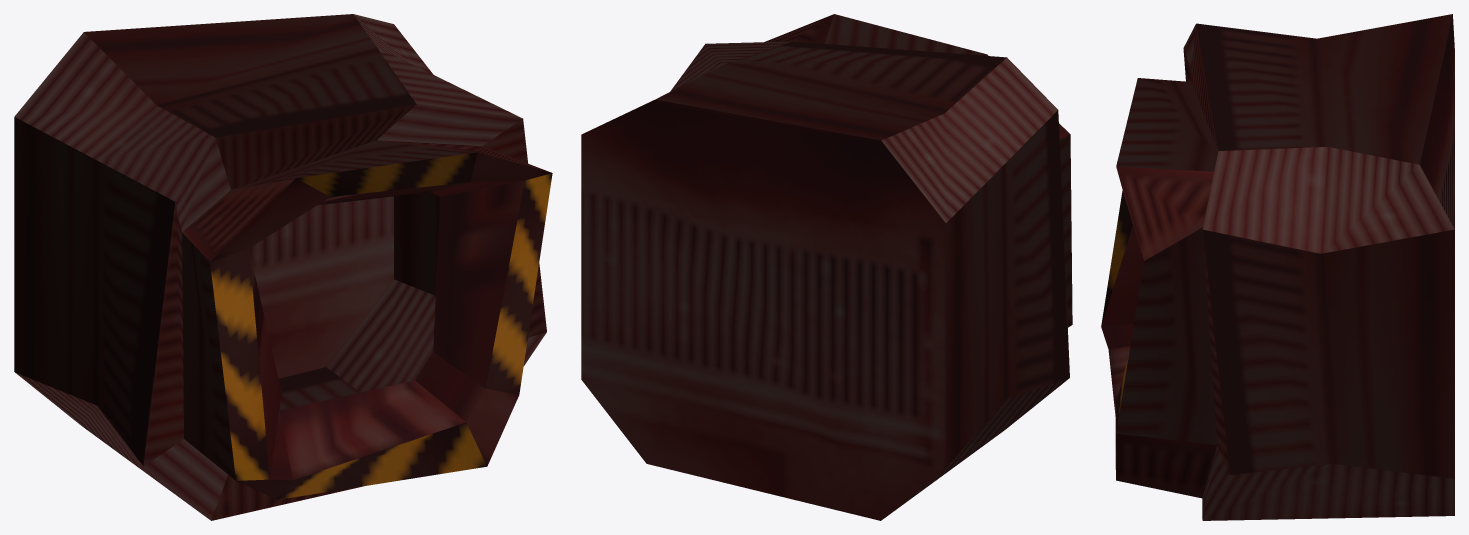
The model's file is FuseboxBroken.fbx.
3 renders of one model, left to right at view 1: azimuth 30°, elevation 25°; view 2: azimuth 150°, elevation 25°; view 3: azimuth 270°, elevation 25°, orthographic. The views are drawn at different scales.
Visible parts, largest first — view 1: FuseBox.001; view 2: FuseBox.001; view 3: FuseBox.001.
Part boxes in pixels (x1,y1,x2,y2): FuseBox.001: [14, 14, 552, 520]; FuseBox.001: [581, 14, 1072, 520]; FuseBox.001: [1101, 14, 1454, 520].
Bounding box in the file's own units: 82.92 × 75.76 × 62.26.
